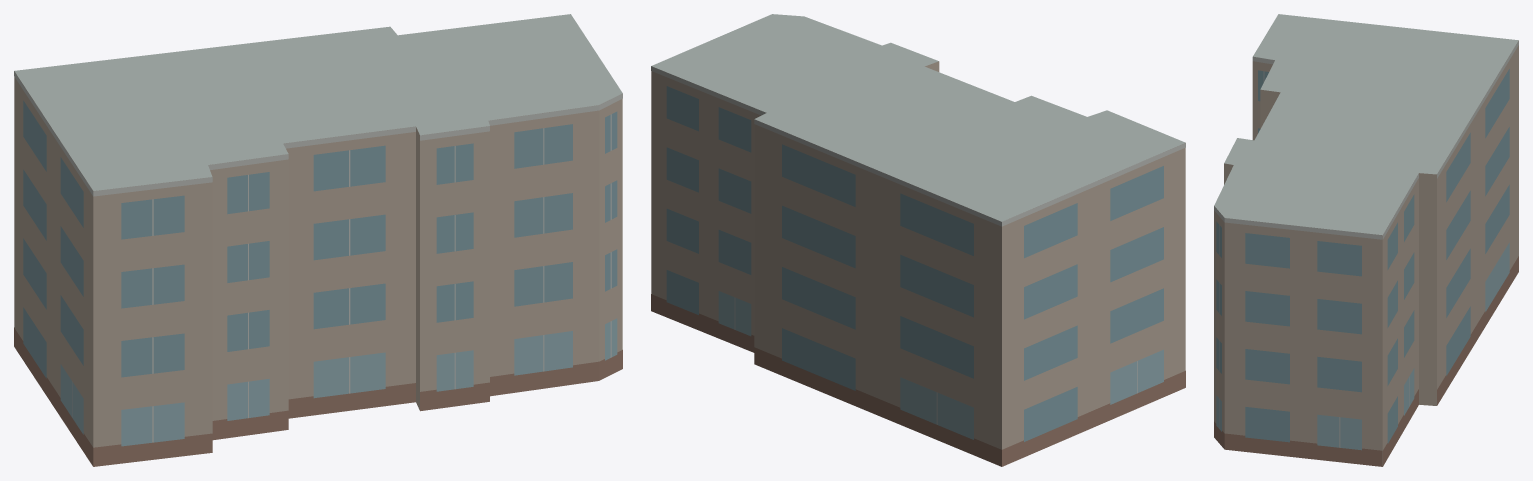
Rendered from survey-upis-33005256.glb.
3 views of the same model, side by side, from view 1: azimuth 30°, elevation 25°; view 2: azimuth 150°, elevation 25°; view 3: azimuth 270°, elevation 25° (orthographic). The views are drawn at different scales.
Visible parts, largest first — view 1: survey-upis-33005256.tmp; view 2: survey-upis-33005256.tmp; view 3: survey-upis-33005256.tmp.
Part boxes in pixels (x1=…): survey-upis-33005256.tmp: x1=14, y1=14, x2=622, y2=466; survey-upis-33005256.tmp: x1=651, y1=14, x2=1185, y2=466; survey-upis-33005256.tmp: x1=1214, y1=14, x2=1518, y2=466.
Bounding box in the file's own units: 25.4 × 12.4 × 14.79.
